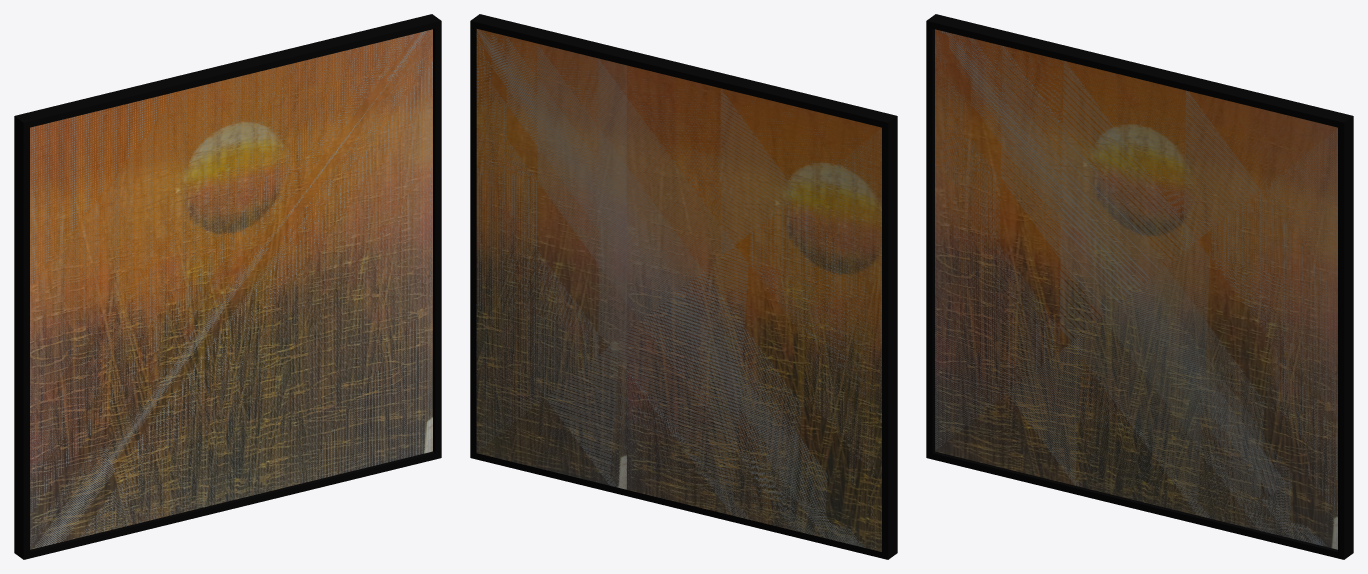
Rendered from painting2.dae.
The picture shows the model from 3 angles, left to right: view 1: azimuth 30°, elevation 25°; view 2: azimuth 150°, elevation 25°; view 3: azimuth 330°, elevation 25°; orthographic projection.
Parts seen in each view (by area): view 1: group_0, Componente_4 (×2), Componente_3 (×2); view 2: group_0, Componente_4 (×2), Componente_3 (×2); view 3: group_0, Componente_4 (×2), Componente_3 (×2).
Part boxes in pixels (x1,y1,x2,y2): group_0: (30,29,432,549); Componente_4 (×2): (14,14,441,559); Componente_3 (×2): (21,15,435,558); group_0: (476,29,881,551); Componente_4 (×2): (470,14,897,559); Componente_3 (×2): (476,15,890,558); group_0: (935,29,1337,549); Componente_4 (×2): (926,14,1353,559); Componente_3 (×2): (932,15,1346,558).
Size of the model in its own units: 40.55 by 1.57 by 40.55.
